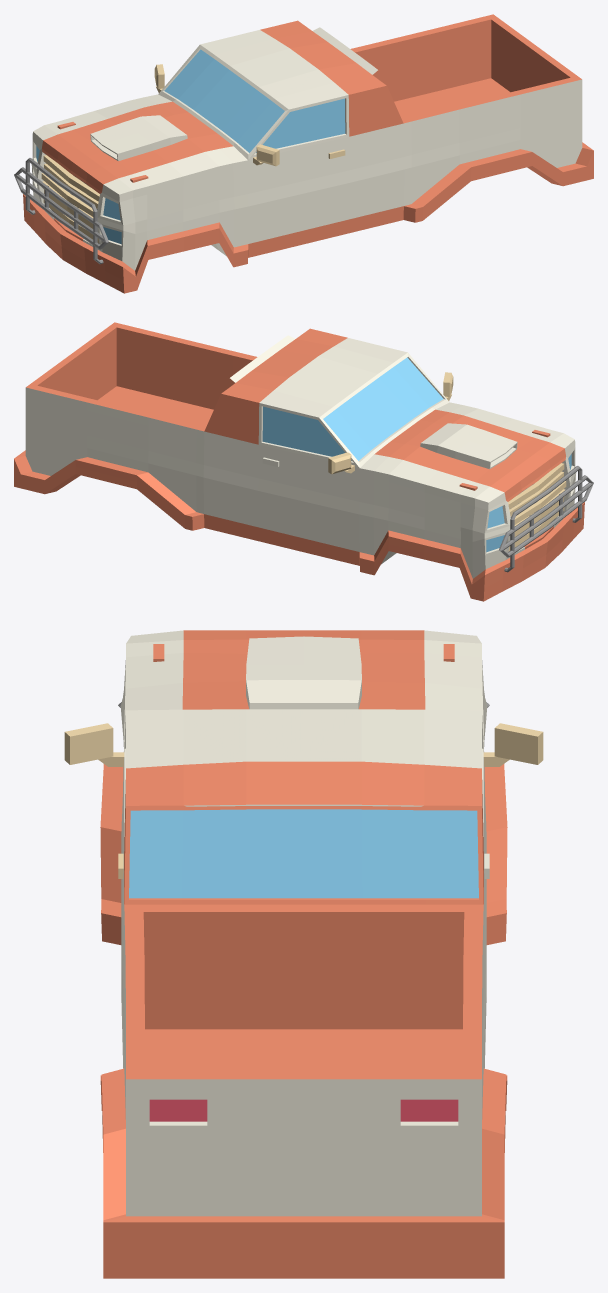
Rendered from car.fbx.
The picture shows the model from 3 angles, top to bottom: view 1: azimuth 30°, elevation 25°; view 2: azimuth 150°, elevation 25°; view 3: azimuth 270°, elevation 25°; orthographic projection. The views are drawn at different scales.
Visible parts, largest first — view 1: Cube.001; view 2: Cube.001; view 3: Cube.001.
Boxes of the visible parts, x1,y1,x2,y2 form: Cube.001: (14,14,593,293); Cube.001: (14,322,593,601); Cube.001: (64,630,543,1278).
Bounding box in the file's own units: 871 × 243 × 372.
